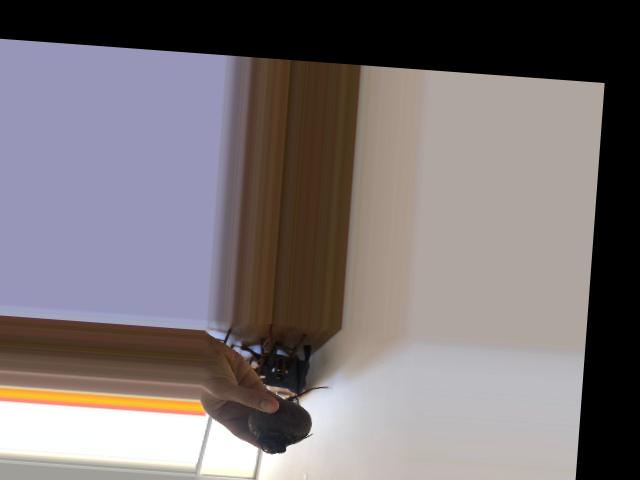beet: (246, 380, 331, 457)
